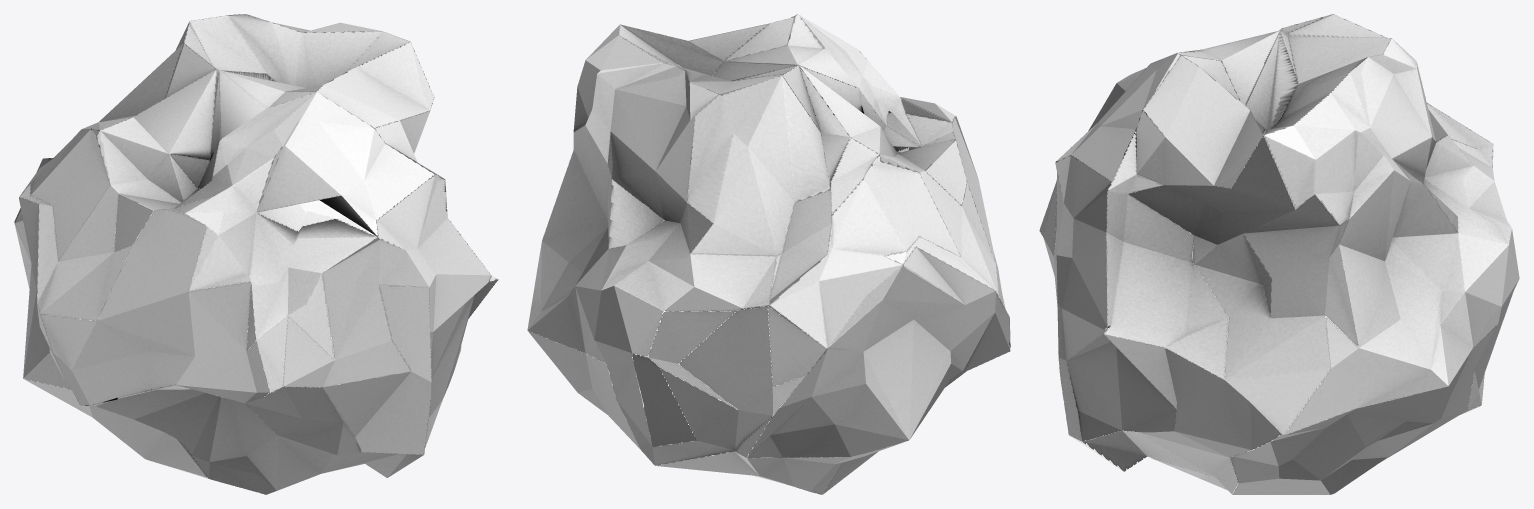
The model's file is PaperBall.fbx.
3 views of the same model, side by side, from view 1: azimuth 30°, elevation 25°; view 2: azimuth 150°, elevation 25°; view 3: azimuth 270°, elevation 25° (orthographic). The views are drawn at different scales.
Visible parts, largest first — view 1: PaperBall; view 2: PaperBall; view 3: PaperBall.
Part boxes in pixels (x1=…): PaperBall: x1=14, y1=14, x2=498, y2=494; PaperBall: x1=527, y1=14, x2=1010, y2=494; PaperBall: x1=1039, y1=14, x2=1519, y2=494.
Size of the model in its own units: 474 by 431 by 439.
